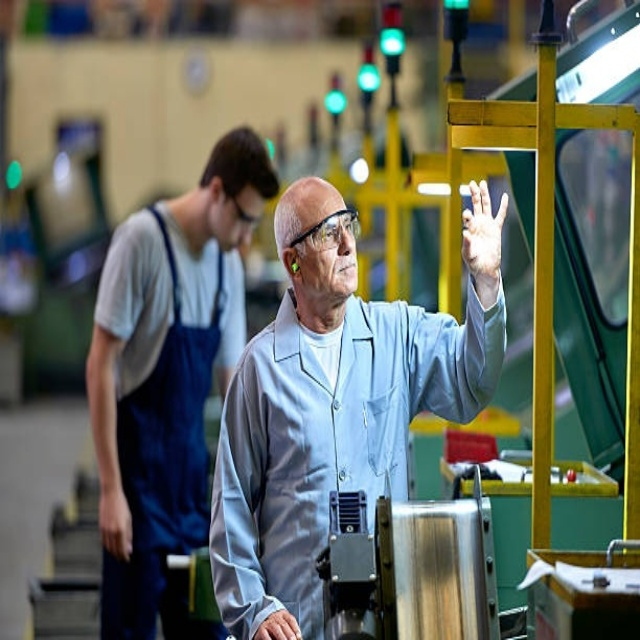Gafas: (291, 208, 359, 255), (226, 188, 261, 227)
Sin_guantes: (460, 179, 509, 277), (98, 489, 133, 562), (251, 602, 308, 635)
Sin_mascara: (330, 257, 360, 295)
